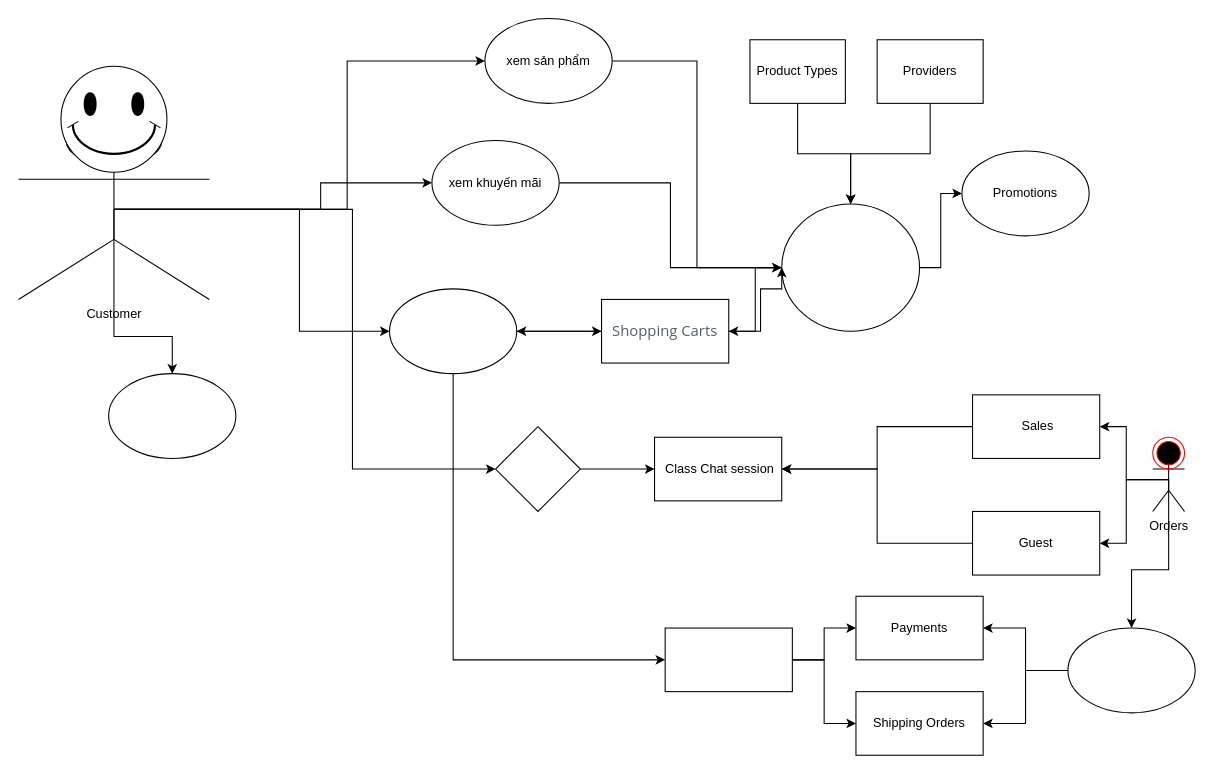
Some shapes in this 1214 by 774 pixel diagram are drawn without their labels. The centre of each missing label's shape, as x and y in pixels:
"Chat" goes at (537,468).
"Class đơn hàng (Orders)" goes at (728,659).
"Product" goes at (850,267).
"quản lý giỏ hàng" goes at (452,331).
"Quản lý đơn hàng" goes at (1131,670).
"Đăng ký thành viên" goes at (172,415).
